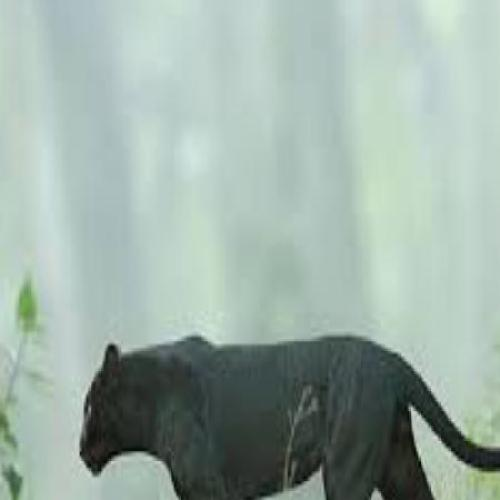panther-endangered: (79, 331, 500, 500)
